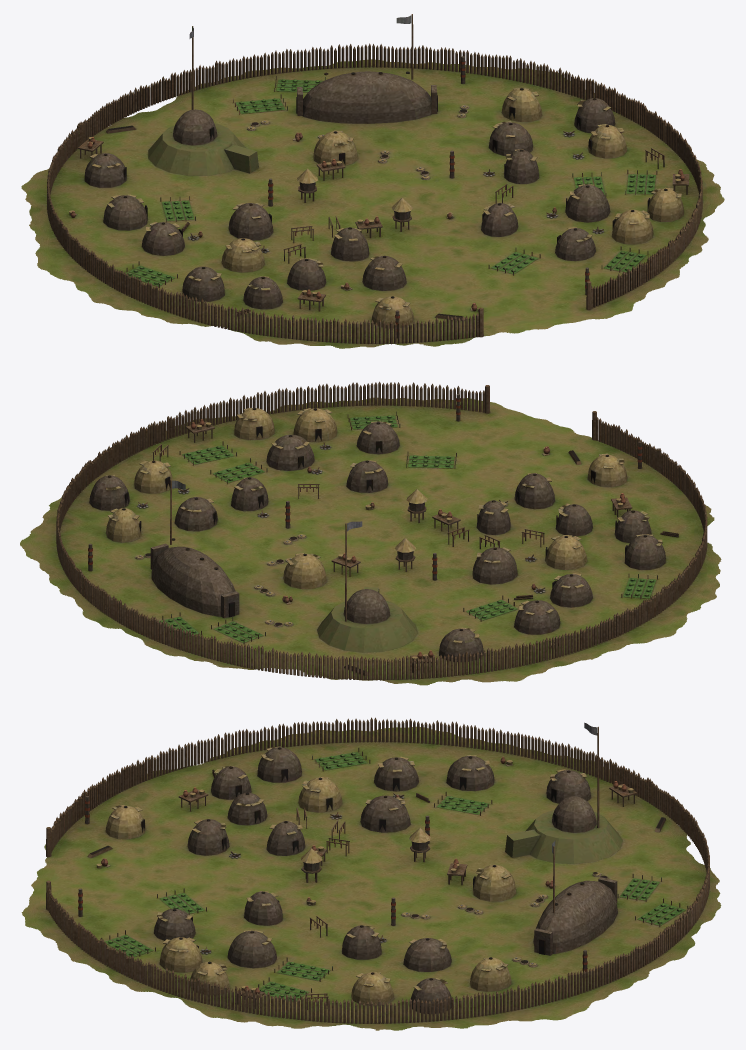
The model's file is stone-town-big-a-americas.glb.
The picture shows the model from 3 angles, top to bottom: view 1: azimuth 30°, elevation 25°; view 2: azimuth 150°, elevation 25°; view 3: azimuth 270°, elevation 25°; orthographic projection. The views are drawn at different scales.
Parts seen in each view (by area): view 1: LOD0; view 2: LOD0; view 3: LOD0.
Boxes of the visible parts, left/top/right/bottom form: LOD0: left=21, top=14, right=724, bottom=348; LOD0: left=20, top=381, right=721, bottom=685; LOD0: left=21, top=717, right=721, bottom=1030.
Size of what is drawn, in the model's own units: 7.96 by 1.45 by 7.76.
3 materials, 3 textured.
